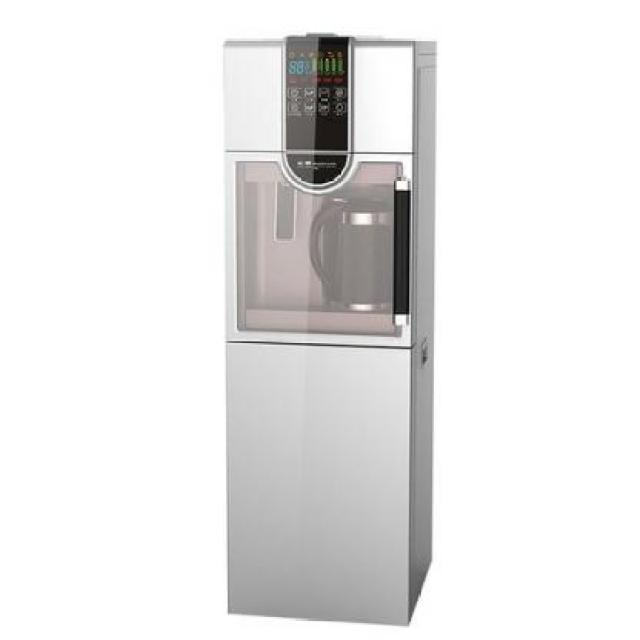cooler: (218, 28, 438, 630)
